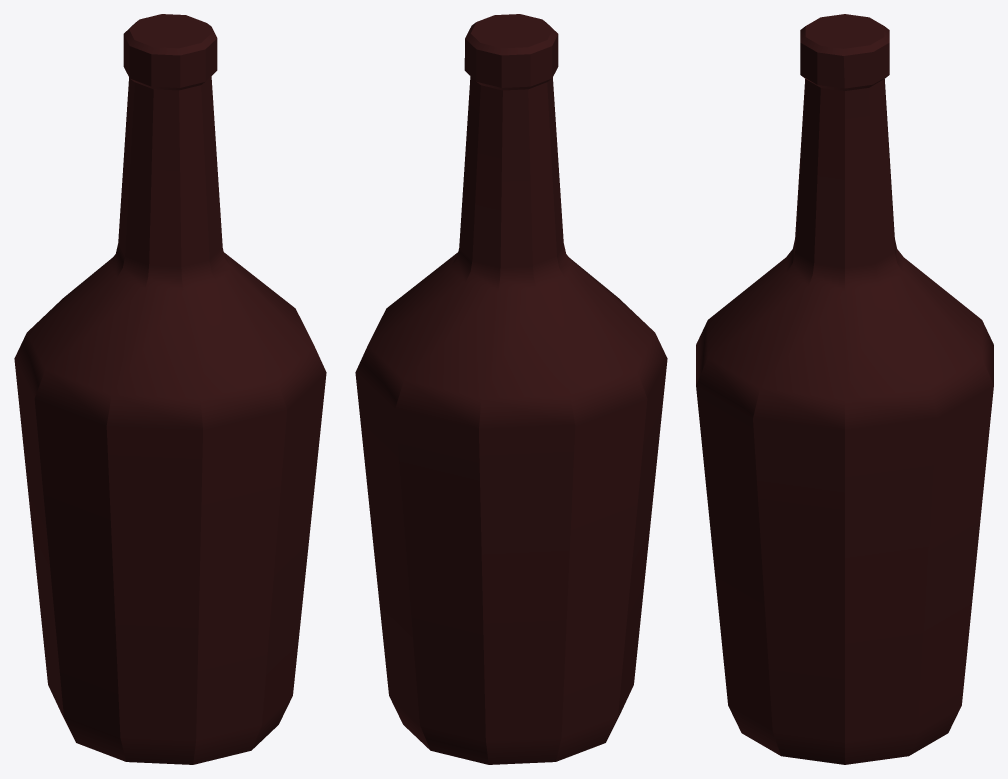
The model's file is bottle 3.fbx.
The picture shows the model from 3 angles, left to right: view 1: azimuth 30°, elevation 25°; view 2: azimuth 150°, elevation 25°; view 3: azimuth 270°, elevation 25°; orthographic projection.
Parts seen in each view (by area): view 1: pCylinder16; view 2: pCylinder16; view 3: pCylinder16.
Boxes of the visible parts, left/top/right/bottom form: pCylinder16: left=14, top=14, right=326, bottom=764; pCylinder16: left=355, top=14, right=667, bottom=764; pCylinder16: left=696, top=14, right=993, bottom=764.
Size of the model in its own units: 0.2802 by 0.6905 by 0.2665.
